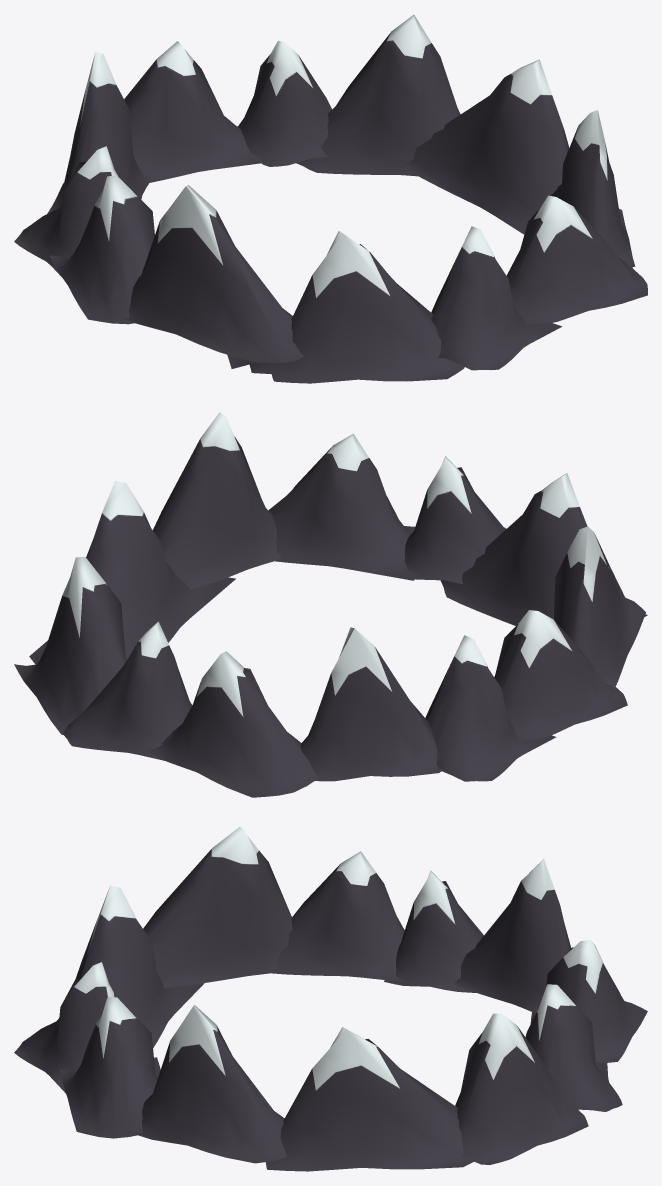
File: Arties.fbx
3 renders of one model, top to bottom at view 1: azimuth 30°, elevation 25°; view 2: azimuth 150°, elevation 25°; view 3: azimuth 270°, elevation 25°, orthographic. The views are drawn at different scales.
Visible parts, largest first — view 1: Plane_3, Plane_9, Plane_8, Plane_7, Plane_5, Plane_1, Plane_2, Plane_10, Plane_6, Plane_4, Plane_11, Plane_12; view 2: Plane_11, Plane_4, Plane_1, Plane_5, Plane_3, Plane_10, Plane_7, Plane_8, Plane_6, Plane_12, Plane_9, Plane_2; view 3: Plane_8, Plane_9, Plane_11, Plane_7, Plane_10, Plane_4, Plane_1, Plane_3, Plane_12, Plane_6, Plane_5, Plane_2.
Boxes of the visible parts, bbox=[...] form: Plane_3: bbox=[227, 231, 464, 383]; Plane_9: bbox=[104, 185, 303, 362]; Plane_8: bbox=[403, 59, 569, 234]; Plane_7: bbox=[296, 14, 460, 176]; Plane_5: bbox=[124, 41, 282, 182]; Plane_1: bbox=[506, 195, 647, 326]; Plane_2: bbox=[431, 226, 562, 370]; Plane_10: bbox=[49, 175, 154, 324]; Plane_6: bbox=[238, 40, 331, 166]; Plane_4: bbox=[47, 52, 150, 213]; Plane_11: bbox=[551, 110, 635, 268]; Plane_12: bbox=[14, 146, 117, 276]; Plane_11: bbox=[153, 412, 281, 591]; Plane_4: bbox=[300, 627, 442, 781]; Plane_1: bbox=[268, 433, 419, 580]; Plane_5: bbox=[146, 651, 317, 797]; Plane_3: bbox=[440, 473, 647, 625]; Plane_10: bbox=[494, 610, 627, 743]; Plane_7: bbox=[14, 557, 127, 734]; Plane_8: bbox=[29, 481, 235, 664]; Plane_6: bbox=[63, 621, 192, 760]; Plane_12: bbox=[425, 635, 556, 781]; Plane_9: bbox=[553, 526, 645, 697]; Plane_2: bbox=[404, 456, 506, 583]; Plane_8: bbox=[265, 1027, 478, 1171]; Plane_9: bbox=[143, 827, 292, 988]; Plane_11: bbox=[124, 1005, 286, 1163]; Plane_7: bbox=[455, 1013, 588, 1164]; Plane_10: bbox=[268, 851, 429, 984]; Plane_4: bbox=[454, 859, 571, 1013]; Plane_1: bbox=[59, 997, 160, 1138]; Plane_3: bbox=[57, 885, 204, 1047]; Plane_12: bbox=[384, 870, 483, 992]; Plane_6: bbox=[525, 984, 622, 1111]; Plane_5: bbox=[530, 940, 647, 1062]; Plane_2: bbox=[14, 962, 115, 1093].
Bounding box in the file's own units: 26945 × 7644 × 30208.
1 material, 1 textured.
